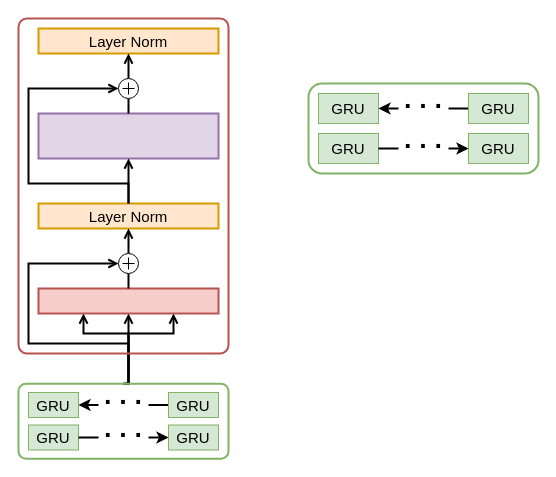
Some shapes in this 556 by 477 pixel diagram are drawn without their labels. Each missing label, with the centre of its shape:
"Multi-Head Attention" goes at (128,300).
"Position-wise Feed-Forward Network" goes at (128,135).
